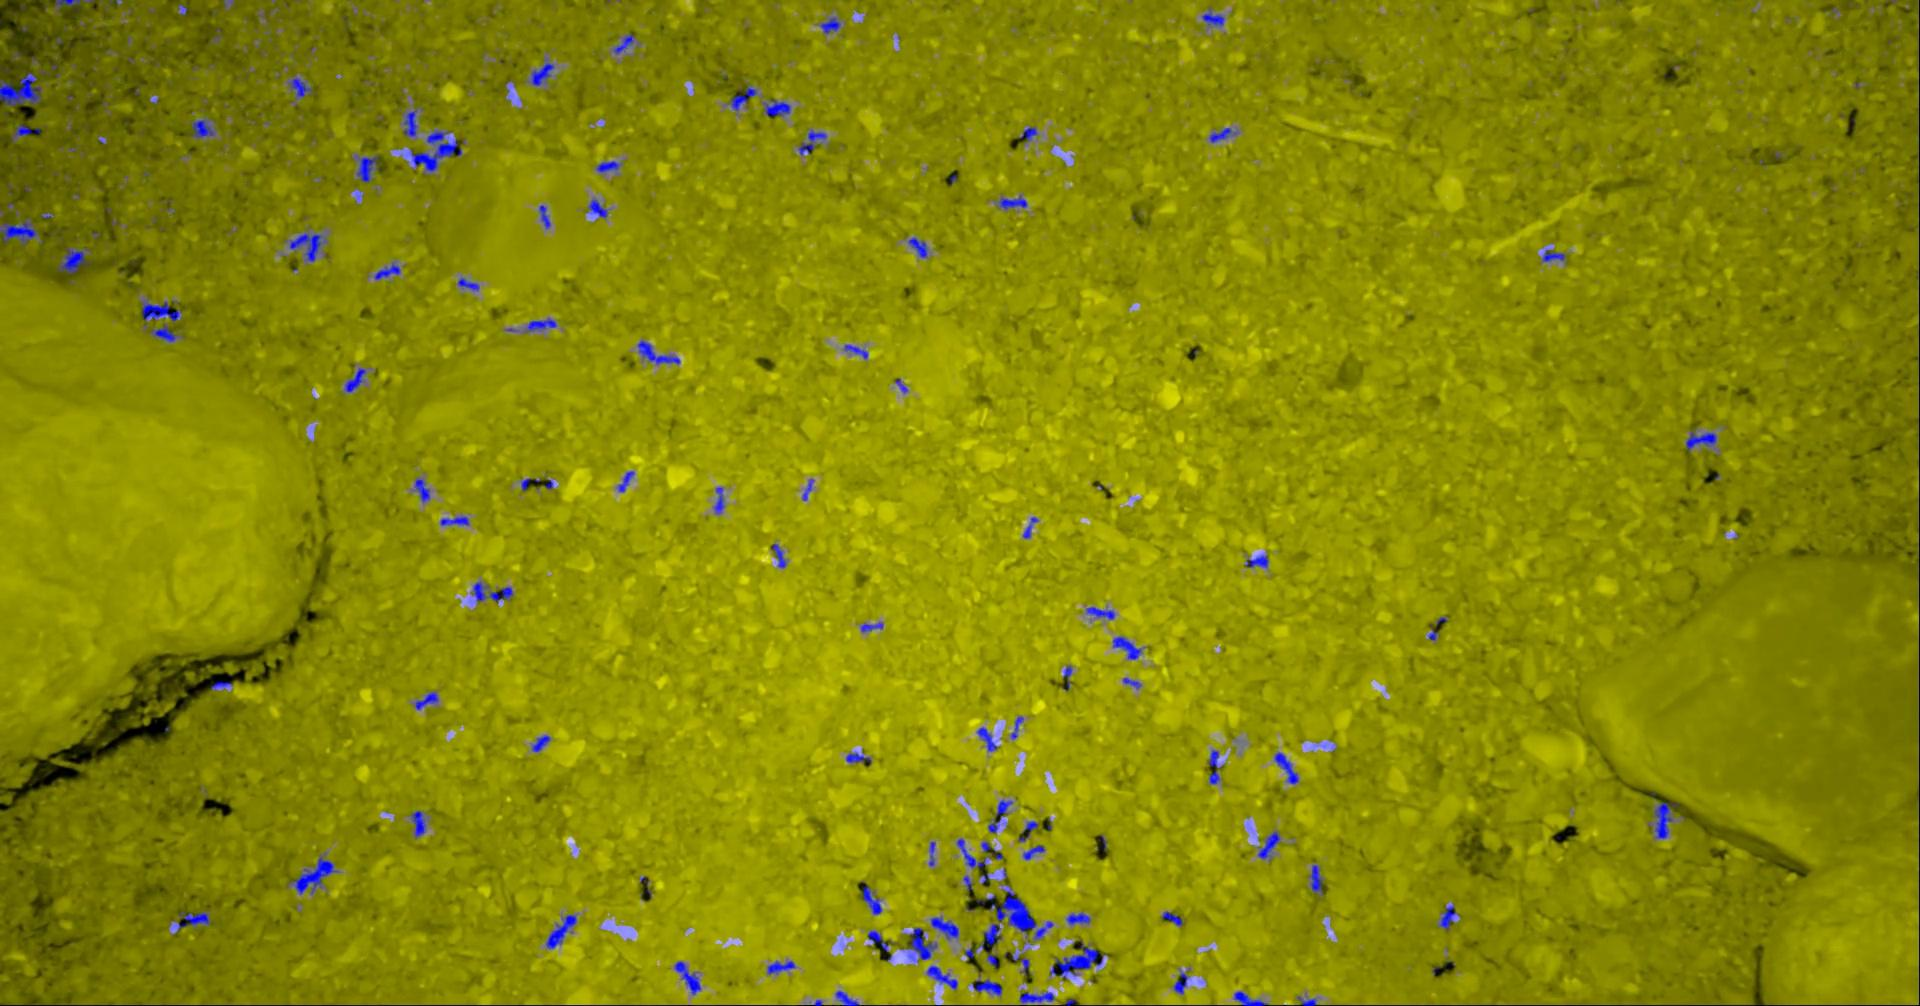ant: (411, 130, 463, 171), (290, 854, 340, 894), (1051, 941, 1103, 978), (1, 72, 43, 105), (286, 232, 328, 260), (1, 217, 39, 246), (637, 339, 681, 365), (143, 300, 183, 326), (547, 915, 578, 948), (957, 838, 992, 868), (909, 927, 938, 959), (1655, 801, 1679, 838), (58, 246, 91, 273), (676, 962, 702, 995), (989, 799, 1015, 832), (474, 580, 514, 601), (175, 911, 211, 934), (1275, 751, 1300, 782), (973, 970, 1004, 995), (799, 130, 828, 155), (928, 965, 959, 989), (731, 84, 758, 111), (1258, 831, 1281, 861), (358, 154, 381, 183), (1114, 636, 1143, 659), (532, 58, 556, 85), (932, 916, 960, 939), (863, 882, 883, 915), (1006, 951, 1031, 976), (1688, 429, 1718, 448), (152, 323, 184, 340), (375, 260, 403, 279), (192, 117, 216, 138), (345, 368, 367, 392), (978, 727, 999, 751), (764, 98, 792, 116), (1021, 991, 1057, 1005), (11, 124, 41, 141), (1209, 749, 1223, 784), (1236, 991, 1270, 1005), (615, 32, 636, 53), (290, 77, 314, 97), (404, 107, 419, 136), (999, 194, 1029, 210), (526, 318, 557, 332), (1175, 967, 1191, 993), (1018, 821, 1040, 841), (869, 930, 889, 951), (57, 0, 95, 11), (1310, 864, 1324, 893), (1203, 8, 1225, 25), (1210, 127, 1237, 142), (417, 691, 439, 709), (411, 810, 427, 837), (982, 841, 1004, 859), (770, 960, 797, 974), (1441, 904, 1457, 930), (618, 470, 636, 492), (1023, 516, 1040, 539), (1087, 606, 1116, 619), (773, 542, 789, 567), (836, 989, 860, 1005), (590, 198, 610, 217), (910, 238, 930, 257), (1023, 843, 1046, 859), (844, 344, 869, 358), (417, 478, 430, 502), (822, 17, 842, 33), (1163, 911, 1185, 926), (533, 734, 552, 751), (715, 486, 726, 513), (597, 160, 622, 171), (540, 205, 552, 227), (458, 277, 481, 290), (1012, 715, 1025, 738), (847, 752, 872, 763), (1067, 912, 1092, 923), (1246, 555, 1270, 567), (1020, 126, 1037, 141), (1544, 249, 1567, 260), (442, 516, 470, 525), (862, 621, 884, 633), (212, 680, 234, 690), (1298, 995, 1318, 1005), (1124, 677, 1142, 688), (1065, 666, 1073, 690), (930, 841, 937, 865)
